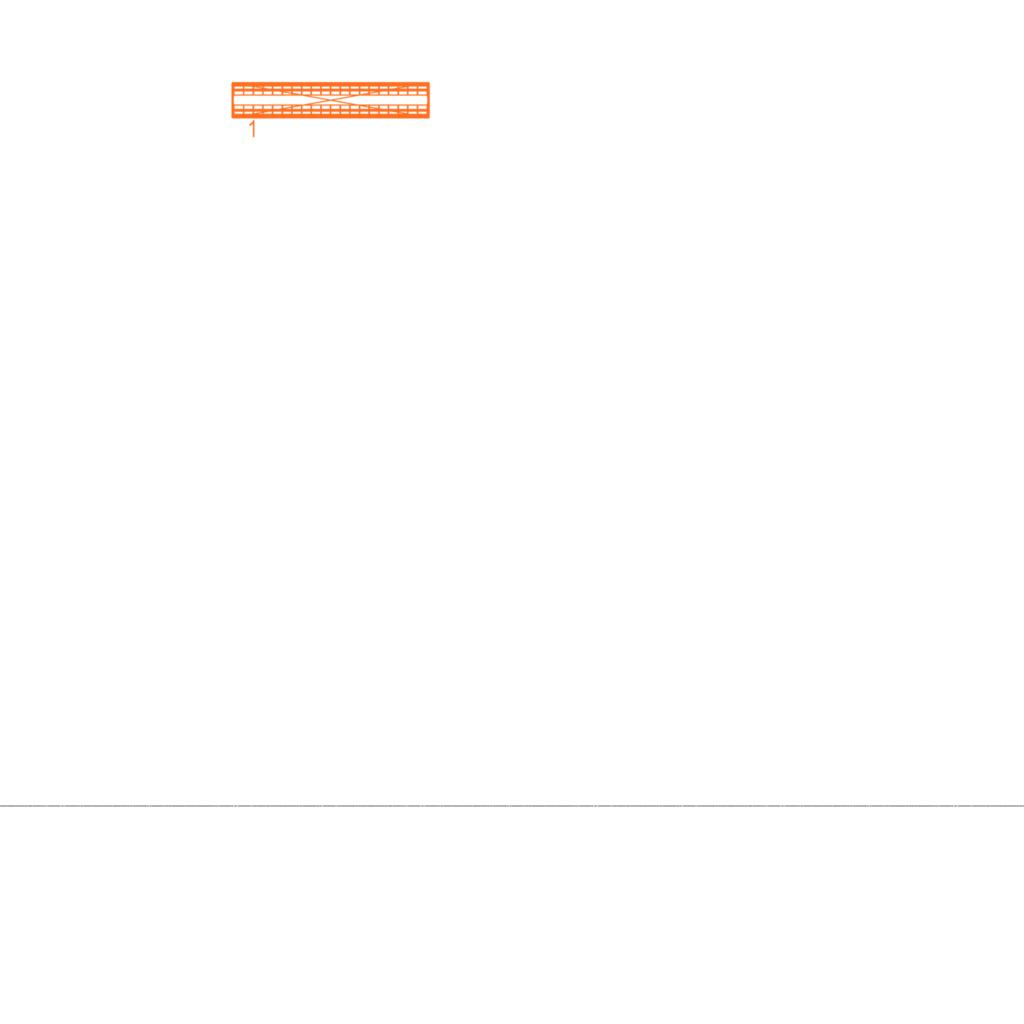Buero_Pendelleuchten_LED: (228, 77, 434, 142)
